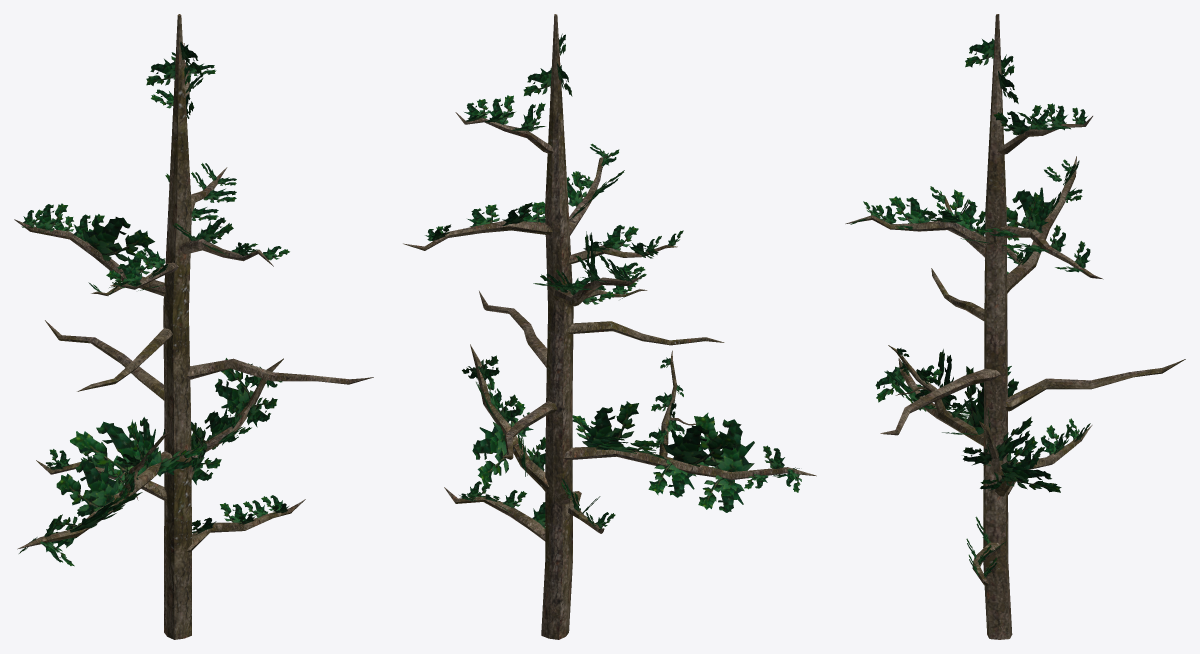
The model's file is tree.glb.
3 views of the same model, side by side, from view 1: azimuth 30°, elevation 25°; view 2: azimuth 150°, elevation 25°; view 3: azimuth 270°, elevation 25° (orthographic).
Visible parts, largest first — view 1: trunk, leaves; view 2: trunk, leaves; view 3: trunk, leaves.
Boxes of the visible parts, left/top/right/bottom form: trunk: left=14, top=14, right=373, bottom=639; leaves: left=19, top=41, right=289, bottom=566; trunk: left=403, top=14, right=816, bottom=639; leaves: left=425, top=33, right=801, bottom=528; trunk: left=845, top=14, right=1185, bottom=639; leaves: left=850, top=38, right=1090, bottom=577.
Bounding box in the file's own units: 66.32 × 113 × 56.2.
2 materials, 2 textured.
